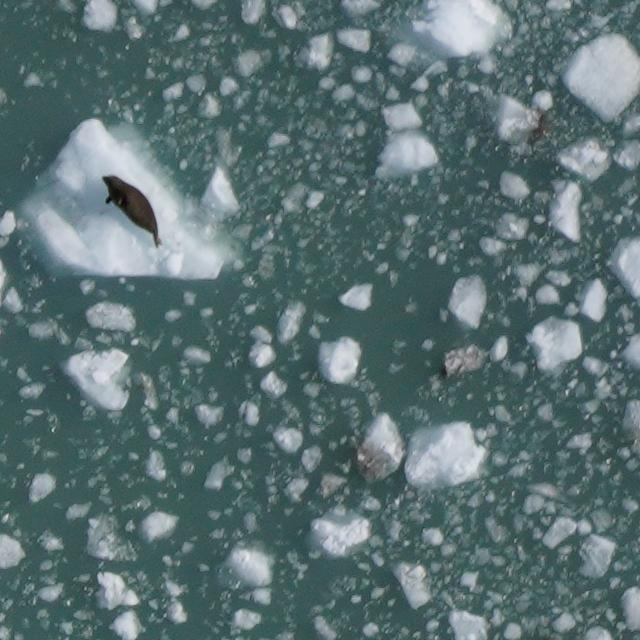seal: (96, 169, 166, 253)
